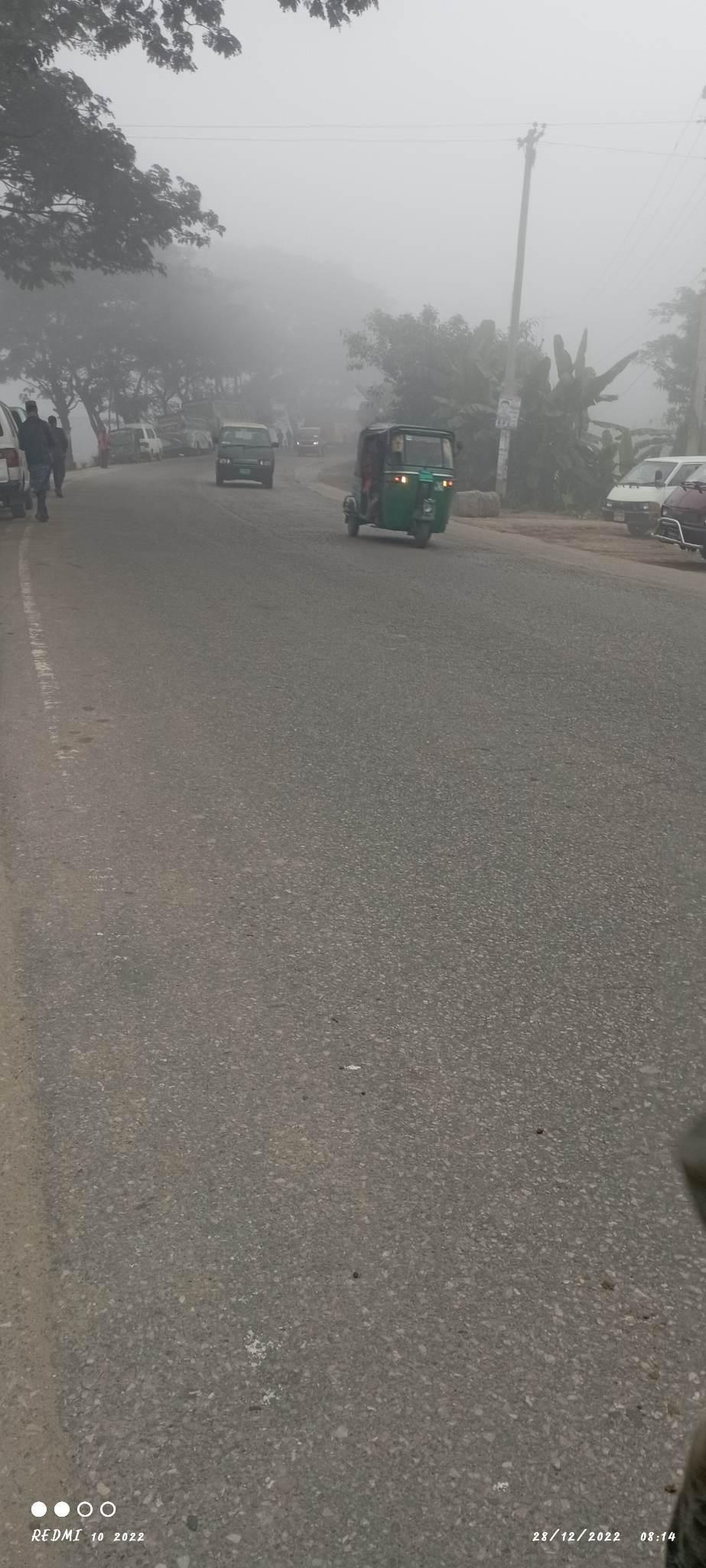Car: (594, 440, 703, 562), (205, 403, 302, 505)
